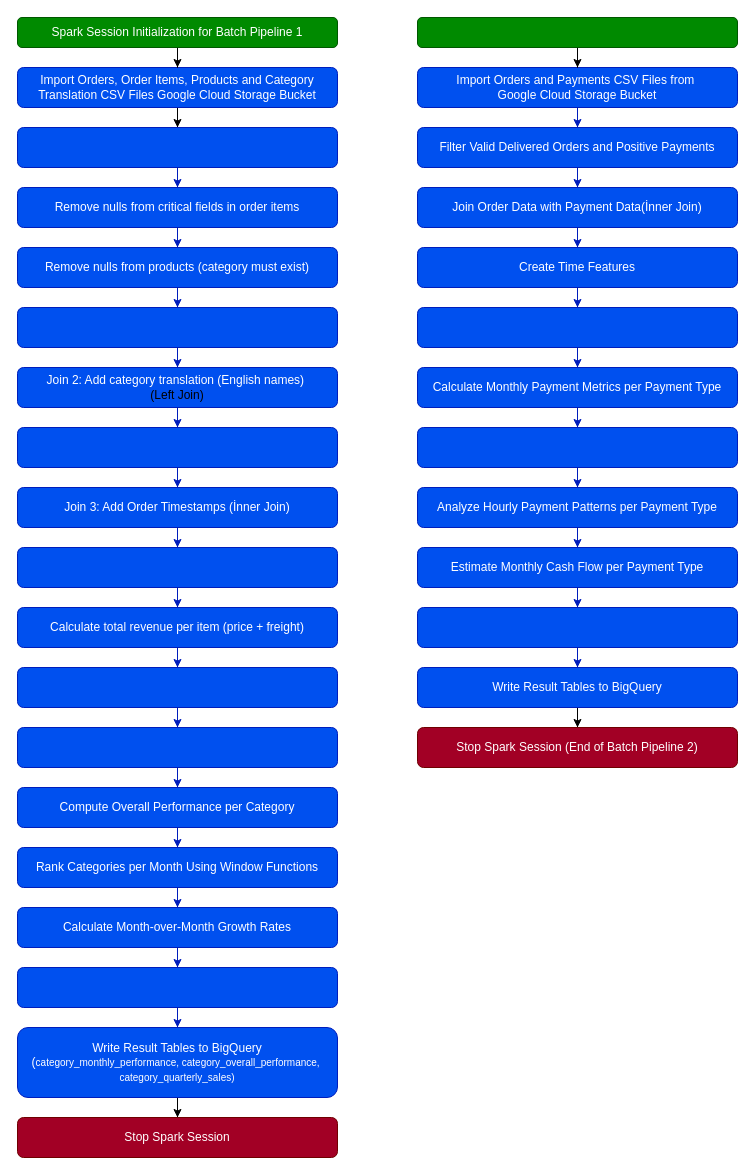
This 755x1175 diagram has some shape labels left out. The shapes that lost their labels are listed below. From the top down, each one's box as (x1, y1, x2, y2) in pixels, then its label:
(416, 16, 738, 48): Spark Session Initialization for Batch Pipeline 2
(16, 126, 338, 168): Filter only delivered orders
(16, 306, 338, 348): Join 1: Order items with products (Left Join)
(416, 306, 738, 348): Create Payment Range and Installment Categories
(16, 426, 338, 468): select specific columns after join
(416, 426, 738, 468): Analyze Installment Patterns by Payment Range
(16, 546, 338, 588): Extract year and quarter for analysis
(416, 606, 738, 648): Apply Window Functions for Cumulative Values and Moving Averages
(16, 666, 338, 708): Handle missing category translations
(16, 726, 338, 768): Aggregate Monthly Category Sales
(16, 966, 338, 1008): Aggregate Quarterly Category Sales
